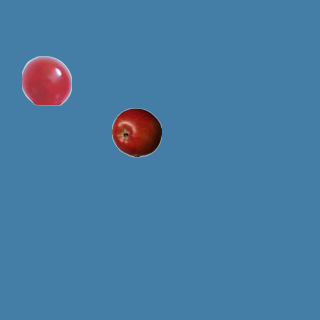Apple Braeburn: (111, 107, 161, 157)
Redcurrant: (21, 55, 71, 105)
